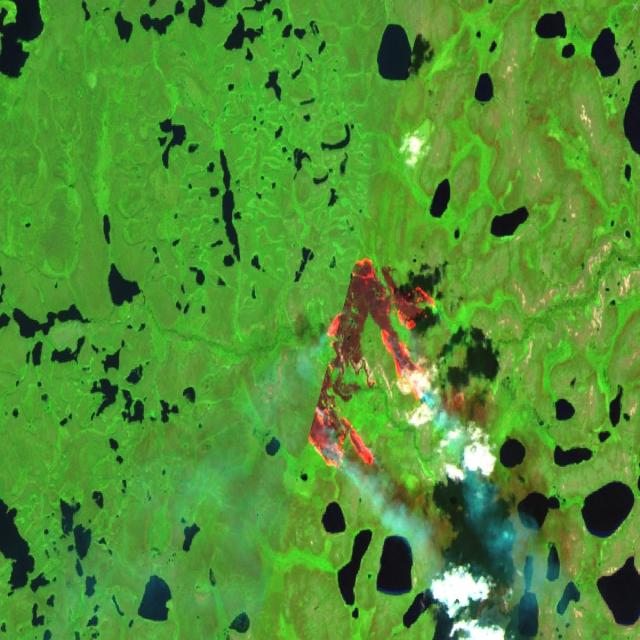fire: (307, 253, 445, 485)
